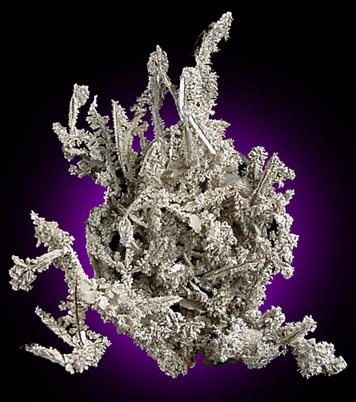silver: (10, 14, 347, 378)
